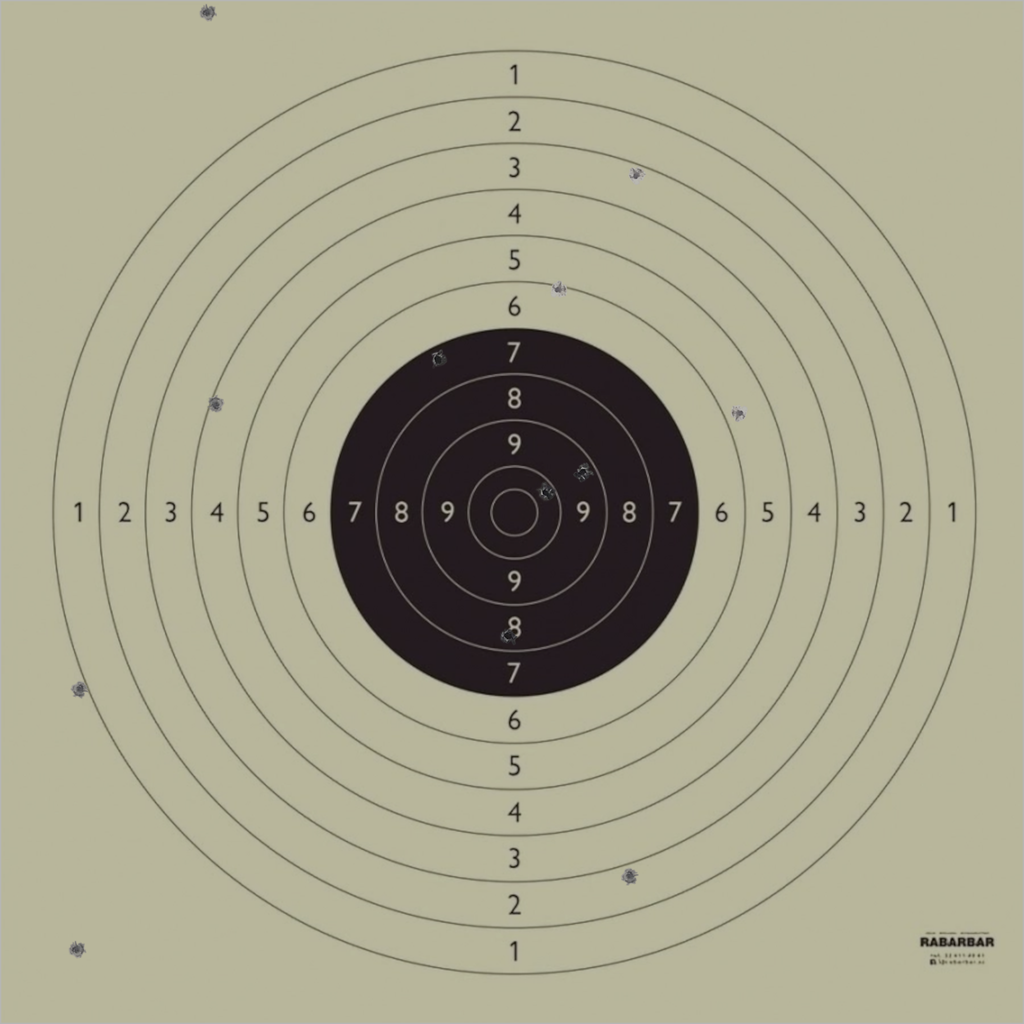0 punktow: (67, 940, 86, 959)
1 punkt: (71, 680, 89, 698)
10 punktow: (536, 483, 555, 502)
2 punkty: (621, 867, 639, 885)
3 punkty: (627, 166, 645, 185)
4 punkty: (207, 396, 225, 414)
5 punktow: (730, 404, 749, 423)
6 punktow: (549, 280, 568, 299)
7 punktow: (429, 350, 447, 368)
8 punktow: (499, 627, 517, 645)
9 punktow: (573, 463, 592, 482)
